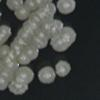white: (50, 26, 80, 52), (15, 65, 35, 84), (7, 80, 29, 96), (38, 66, 57, 84), (56, 59, 72, 80), (57, 0, 77, 15), (0, 24, 13, 44)
